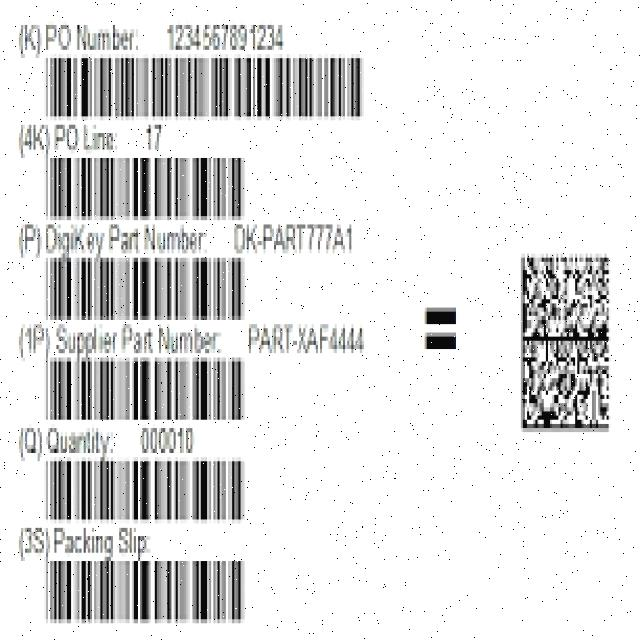datamatrix: (512, 228, 615, 441)
